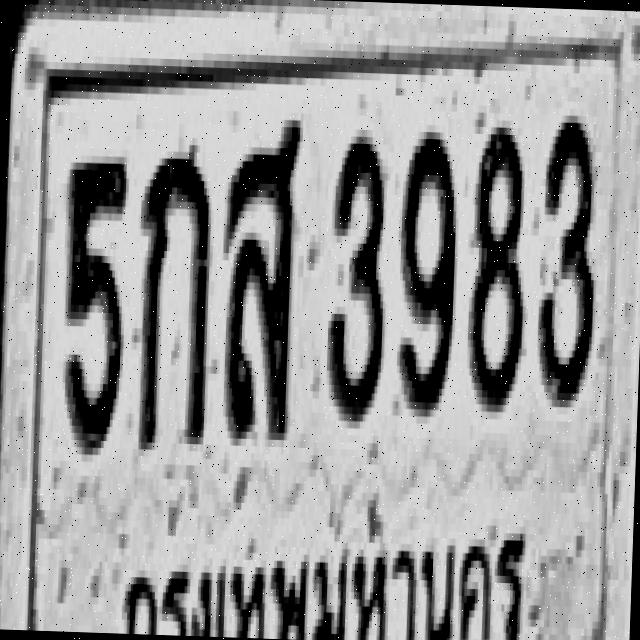10GorGai: (132, 143, 213, 451)
3: (323, 128, 390, 422), (535, 111, 599, 404)
49SorSuea: (218, 111, 302, 440)
5: (59, 155, 128, 455)
8: (465, 119, 529, 412)
9: (392, 124, 459, 416)
